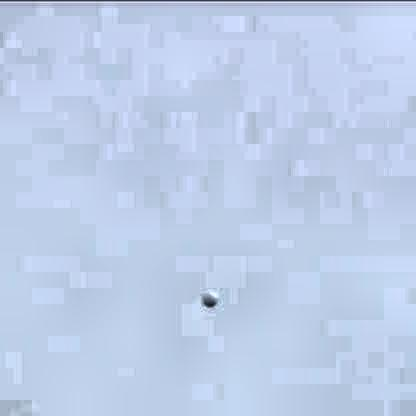golfball: (197, 287, 216, 305)
